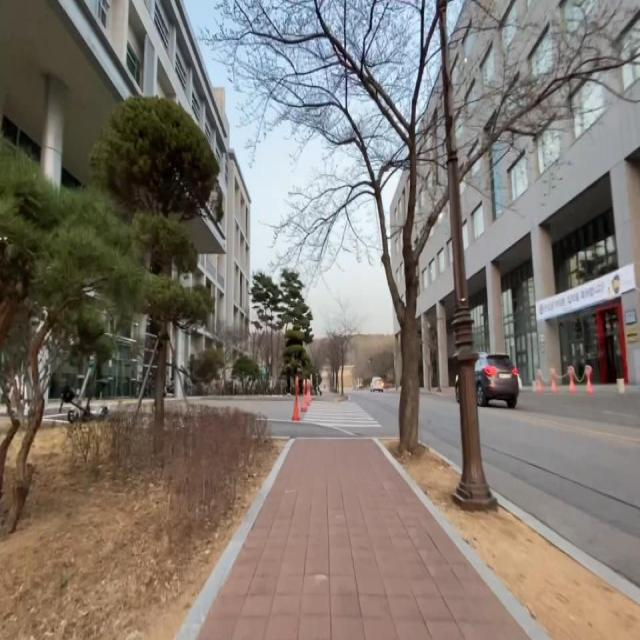sidewalk: (196, 421, 531, 640), (312, 392, 348, 402)
